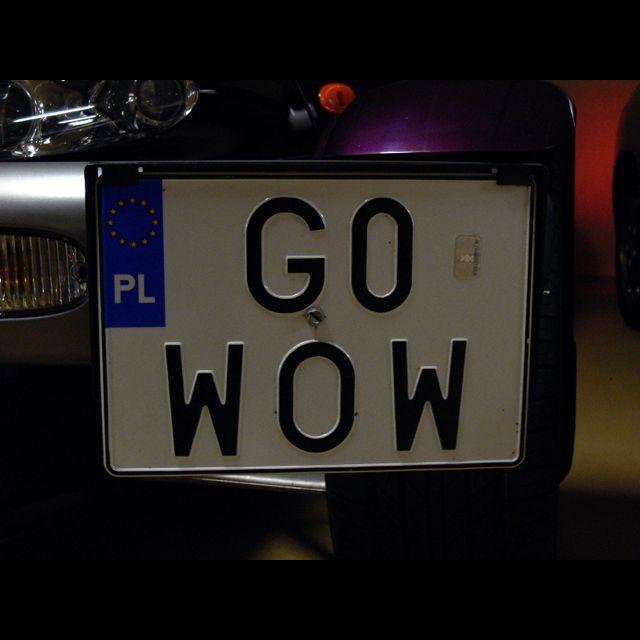pl_license_plate: (100, 176, 528, 464)
